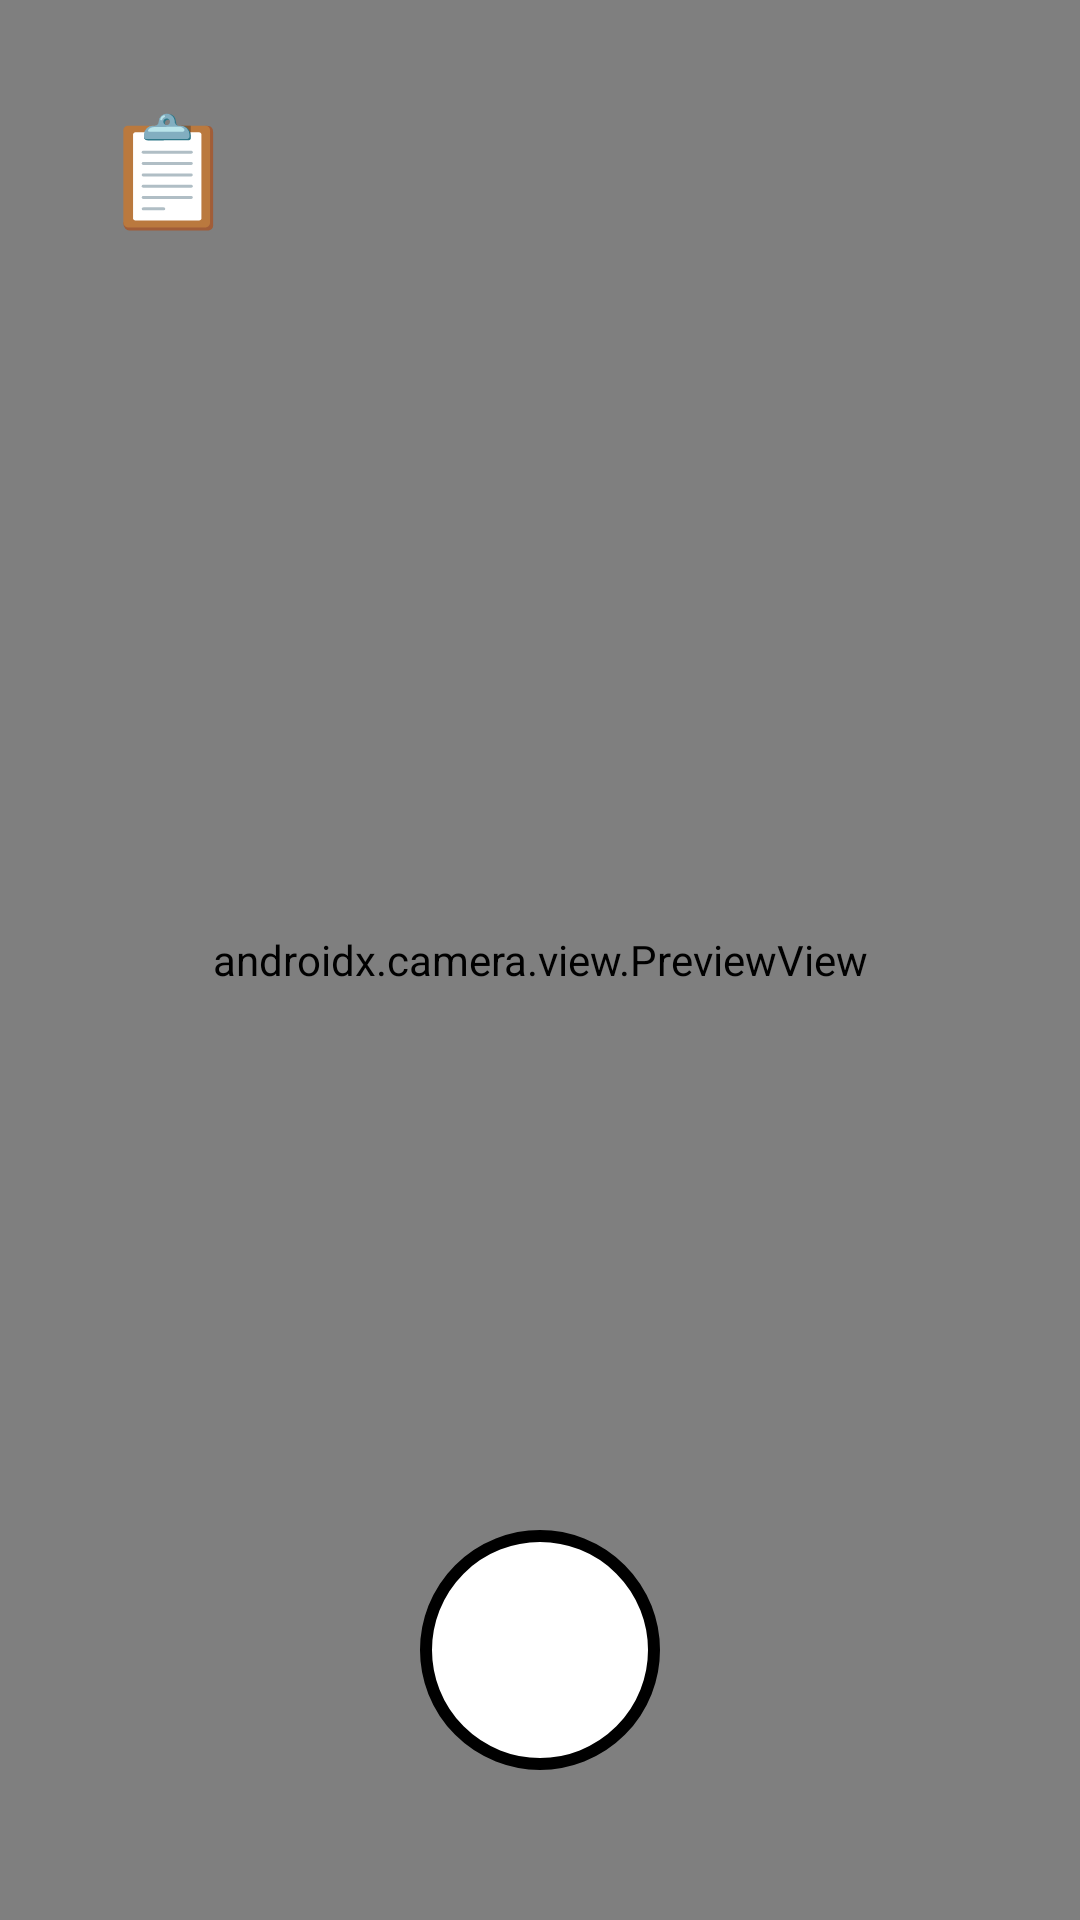

Icon click points for this 1080 x 1920 phone screenshot, format [x,y]:
Сделать фото: [540,1650]
